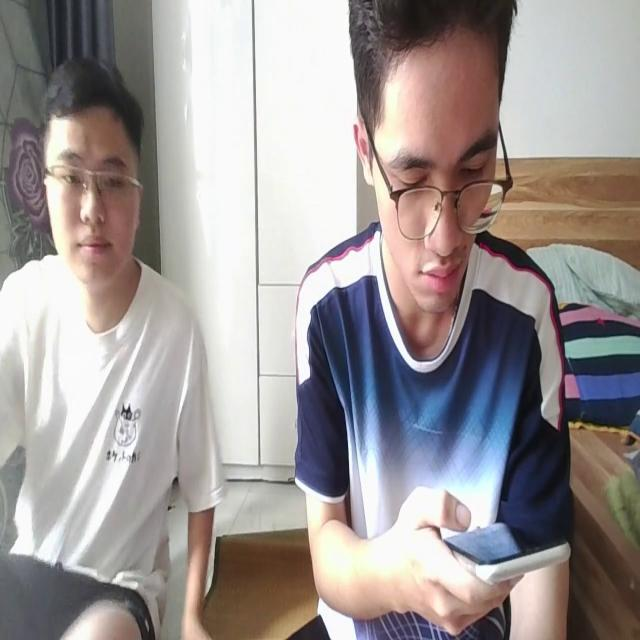extra_person: (0, 54, 222, 640)
phone: (436, 514, 567, 585)
student: (290, 3, 573, 640)
